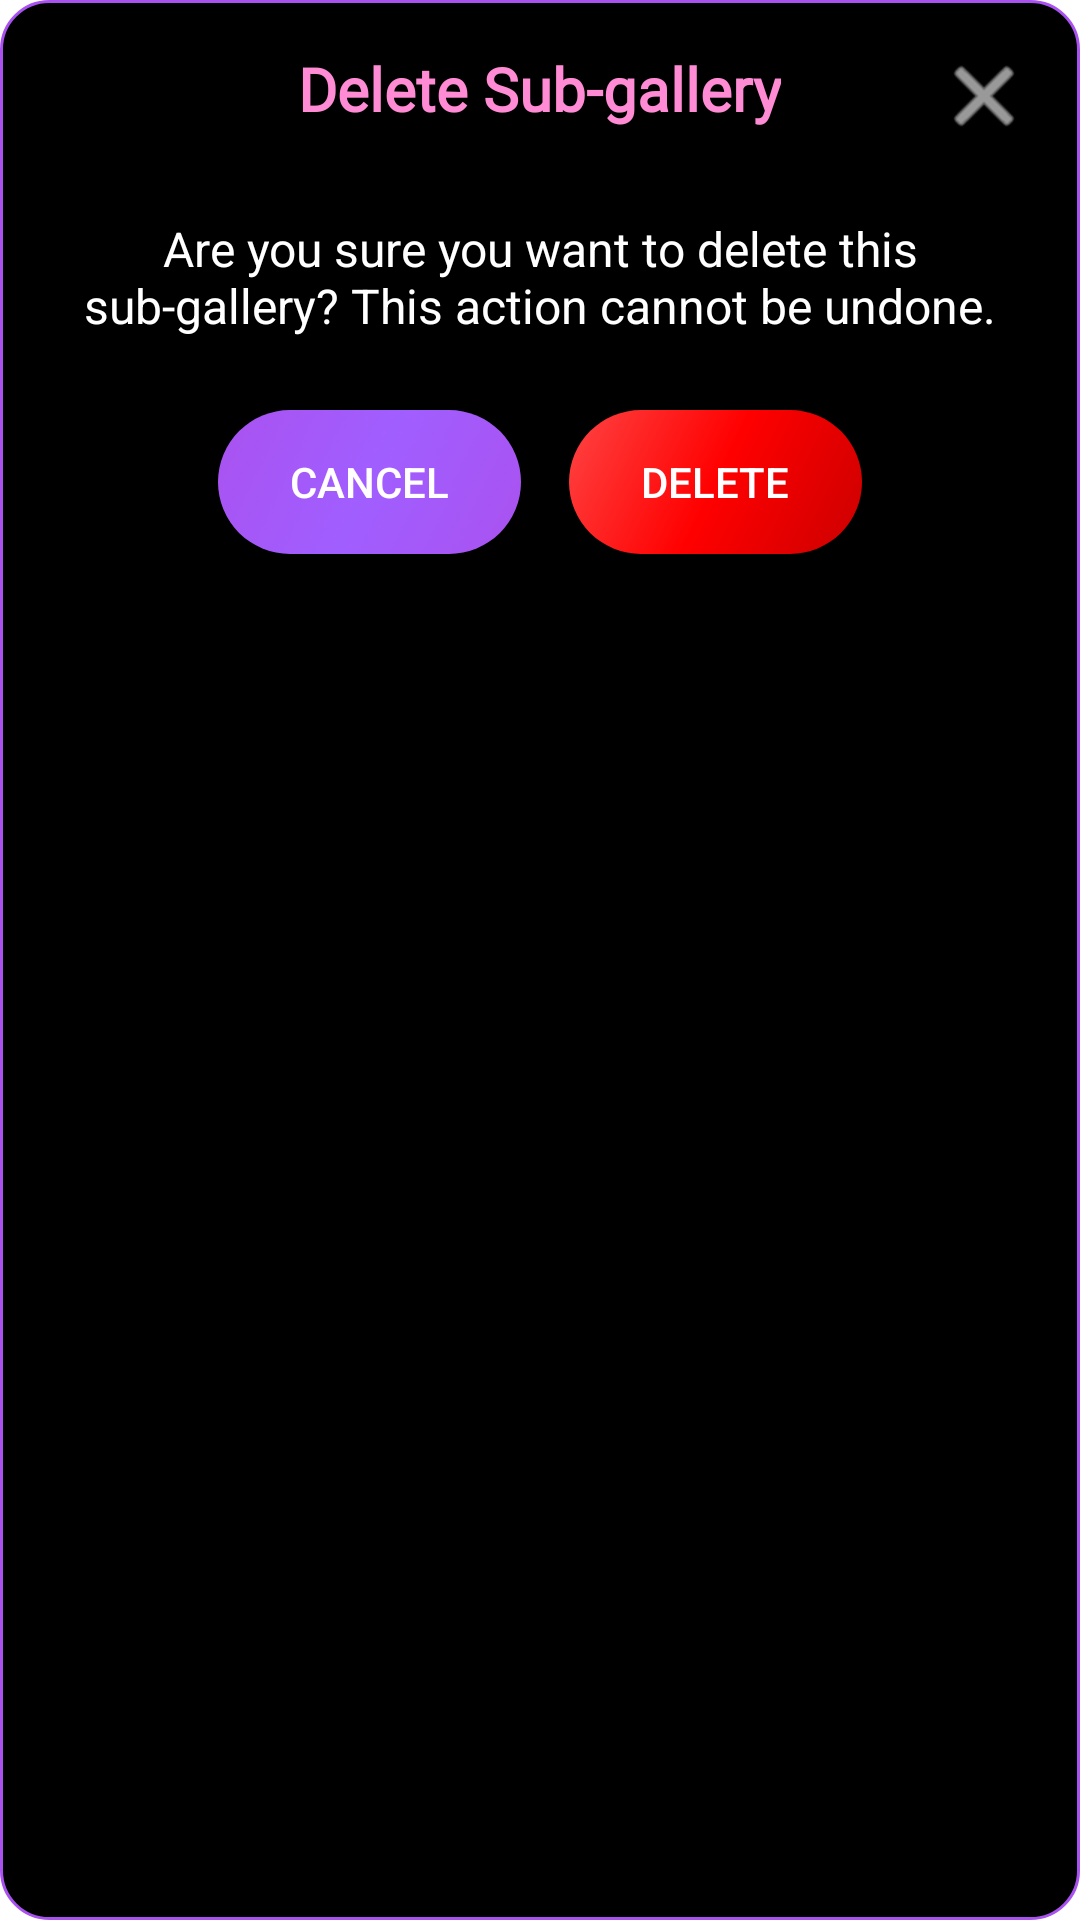

Locate icon controls on the screen. Image size 1080w x 1920h, boxes as [x1,y1,x2,y2].
Close dialog: [954,66,1014,126]
